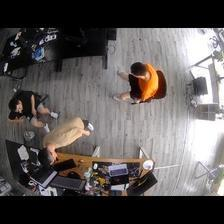normal: (31, 126, 104, 168), (109, 58, 162, 111), (3, 86, 60, 123)
